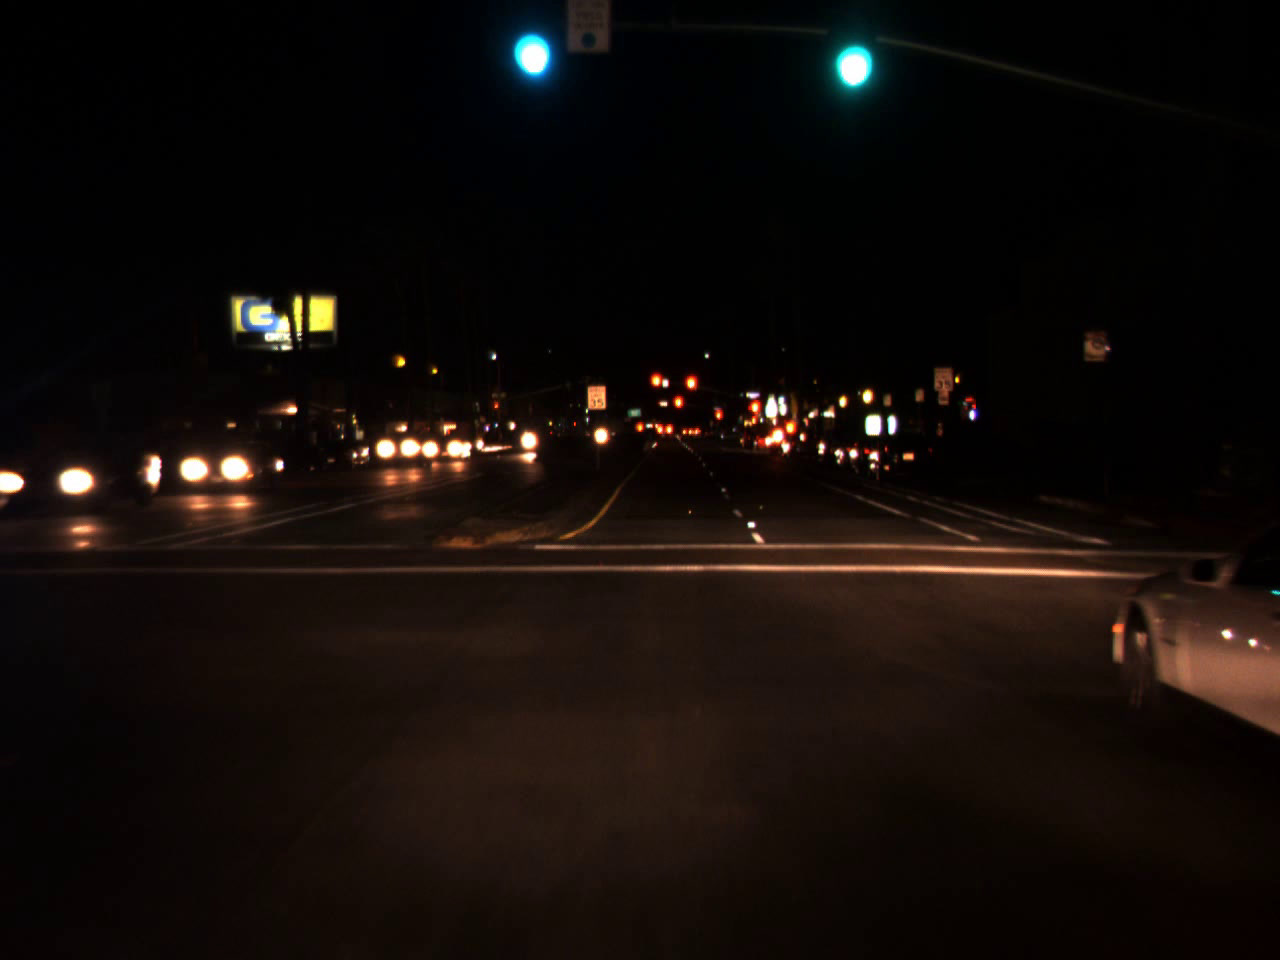go: (830, 11, 873, 98), (510, 2, 553, 86)
stop: (649, 371, 664, 403), (683, 374, 698, 406), (671, 394, 684, 423), (750, 399, 759, 426), (714, 408, 723, 429), (493, 403, 499, 413)
